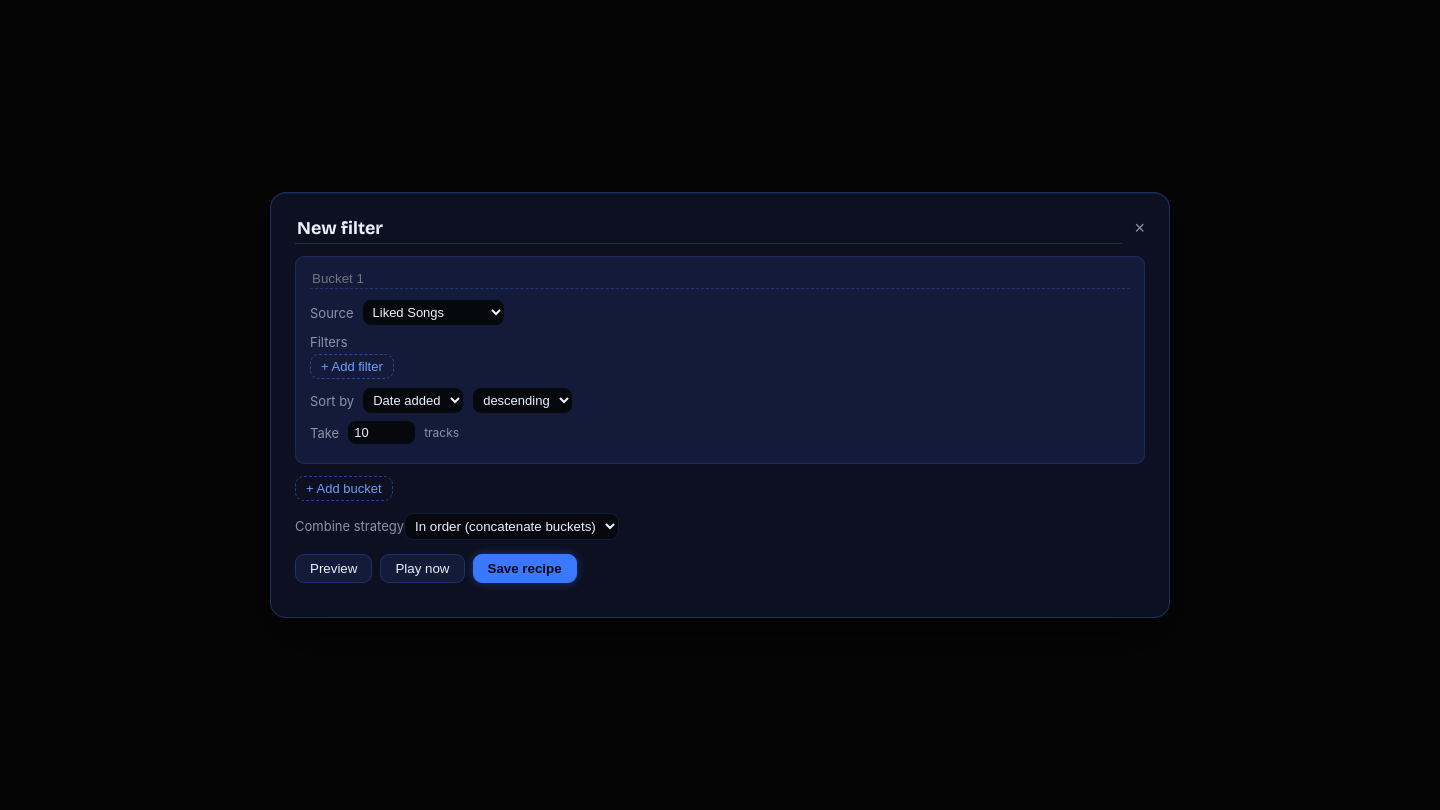
Test: RecipeBuilder › surfaces an error when preview fails
Expected: the dialog is shown, x1=270 y1=192 x2=1170 y2=618
Click the button "Preview": (334,568) x1=295 y1=554 x2=372 y2=583
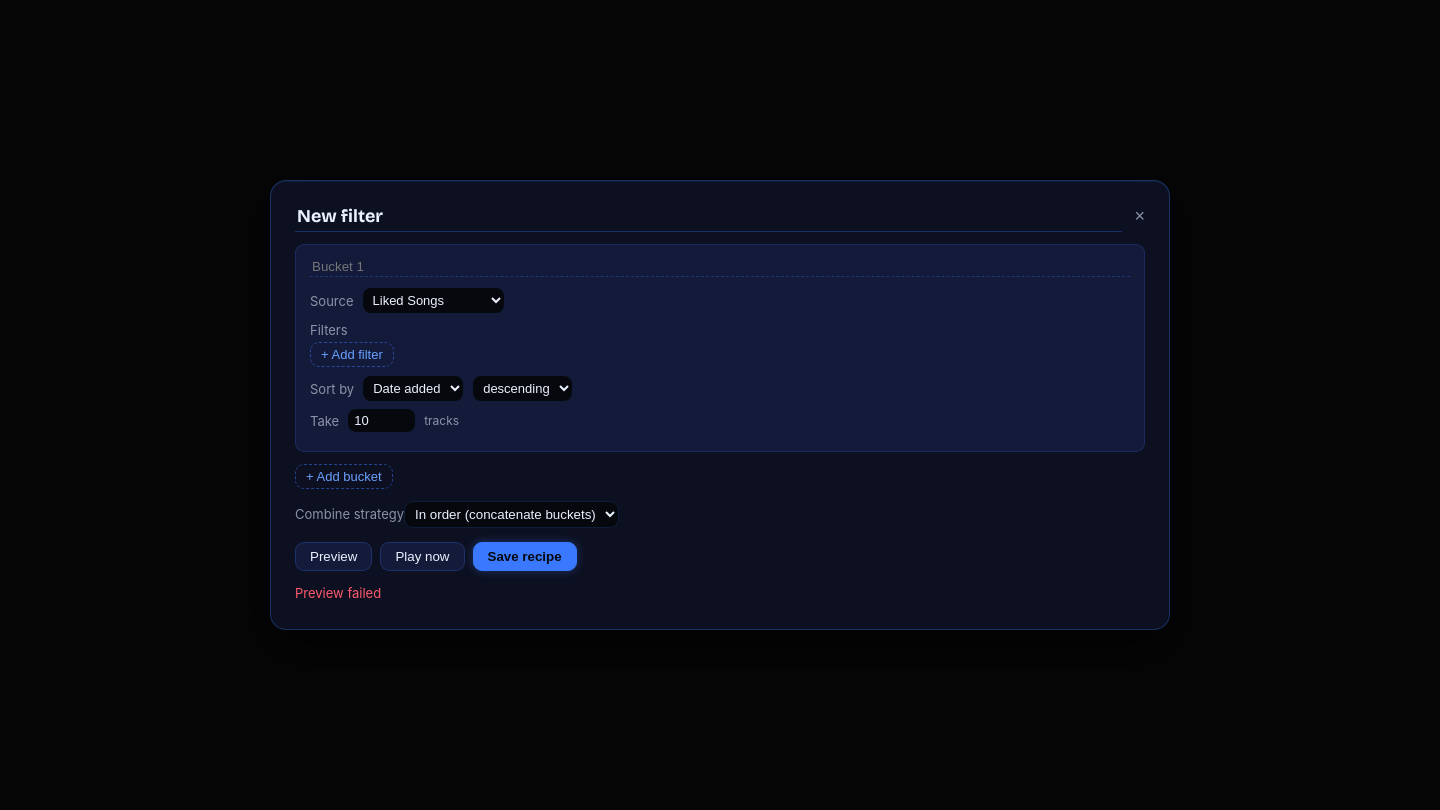
Now the text "Preview failed" is shown, box x1=295 y1=585 x2=381 y2=601
